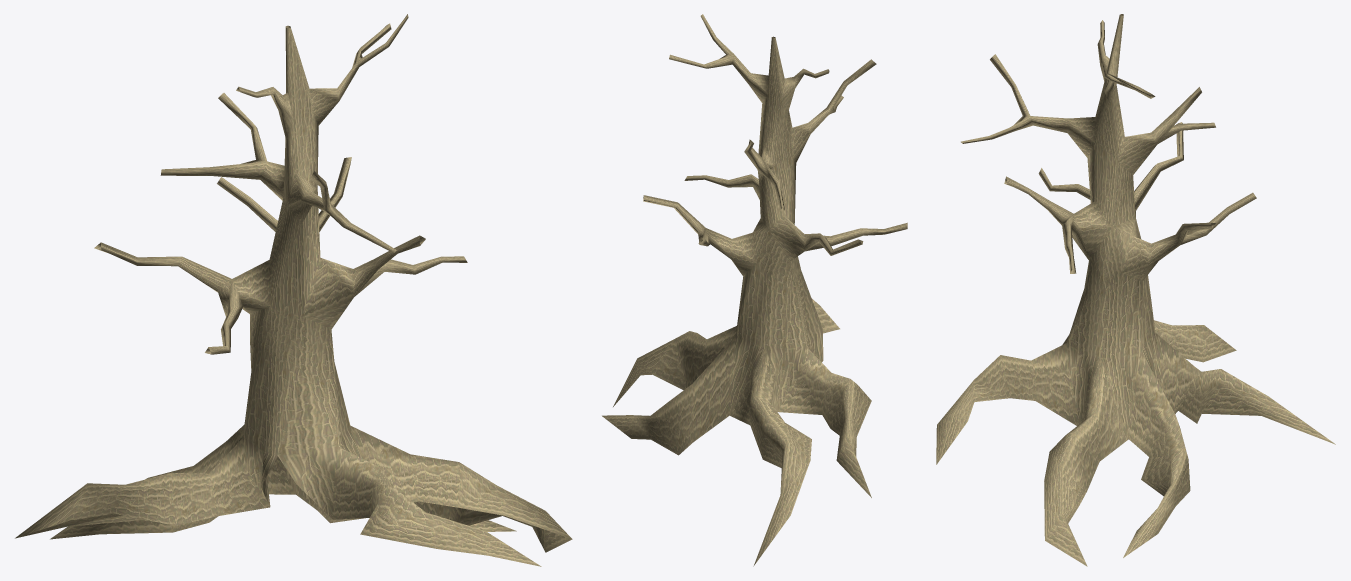
File: HTOWN01_TREEA.fbx
The picture shows the model from 3 angles, left to right: view 1: azimuth 30°, elevation 25°; view 2: azimuth 150°, elevation 25°; view 3: azimuth 270°, elevation 25°; orthographic projection. The views are drawn at different scales.
Visible parts, largest first — view 1: HTOWN01_TREEA; view 2: HTOWN01_TREEA; view 3: HTOWN01_TREEA.
Boxes of the visible parts, x1=… form: HTOWN01_TREEA: x1=15, y1=14, x2=572, y2=566; HTOWN01_TREEA: x1=602, y1=14, x2=907, y2=566; HTOWN01_TREEA: x1=936, y1=14, x2=1335, y2=566.
Size of the model in its own units: 117192 by 148863 by 114499.
Materials: 5 (5 with a texture image).
